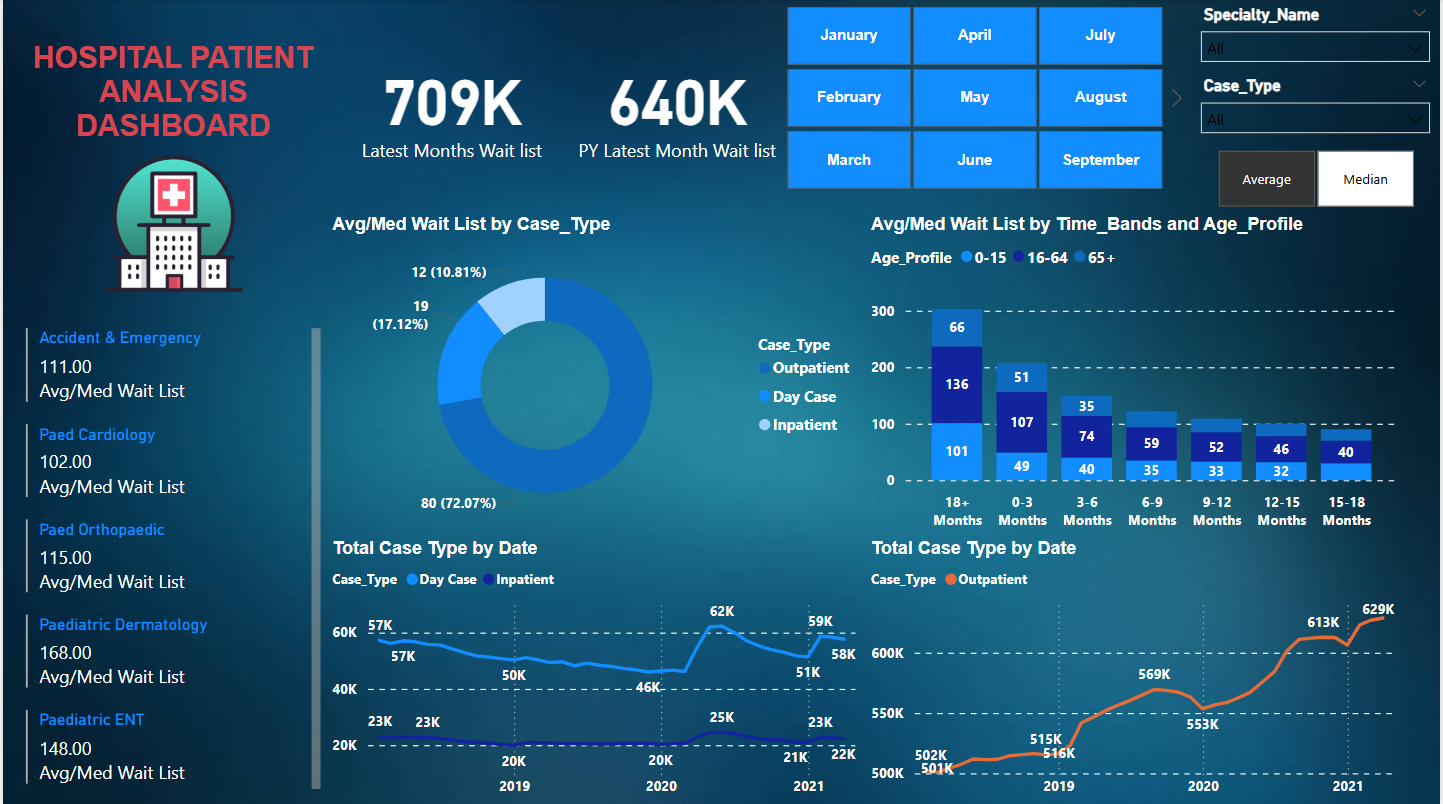

Layout of this report page (visuals, bound fields, positions):
{"tool":"powerbi","page":{"name":"Page 1","canvas":[1280,720],"ordinal":0},"visuals":[{"type":"card","fields":{"Values":["All_Data.Latest Months Wait list"]},"box":[304,32,192,128],"z":0},{"type":"card","fields":{"Values":["All_Data.PY Latest Month Wait list"]},"box":[496,32,208,128],"z":1000},{"type":"slicer","fields":{"Values":["calcuation method.calc Method"]},"box":[1056,128,224,64],"z":2000},{"type":"donutChart","fields":{"Category":["All_Data.Case_Type"],"Y":["All_Data.Avg/Med Wait List"]},"box":[288,192,480,288],"z":3000},{"type":"columnChart","fields":{"Y":["All_Data.Avg/Med Wait List"],"Series":["All_Data.Age_Profile"],"Category":["All_Data.Time_Bands"]},"box":[768,192,480,288],"z":4000},{"type":"multiRowCard","fields":{"Values":["All_Data.Specialty_Name","All_Data.Avg/Med Wait List"]},"box":[16,288,272,432],"z":5000},{"type":"lineChart","title":"Total Case Type by Date","fields":{"Series":["All_Data.Case_Type"],"Category":["All_Data.Archive_Date"],"Y":["Sum(All_Data.Total)"]},"box":[288,480,480,240],"z":6000},{"type":"lineChart","title":"Total Case Type by Date","fields":{"Series":["All_Data.Case_Type"],"Category":["All_Data.Archive_Date"],"Y":["Sum(All_Data.Total)"]},"box":[768,480,480,240],"z":7000},{"type":"slicer","fields":{"Values":["All_Data.Archive_Date.Variation.Date Hierarchy.Month"]},"box":[672,0,384,176],"z":8000},{"type":"slicer","fields":{"Values":["All_Data.Case_Type"]},"box":[1056,64,224,64],"z":9000},{"type":"slicer","fields":{"Values":["All_Data.Specialty_Name"]},"box":[1056,0,224,64],"z":10000},{"type":"textbox","box":[16,32,272,128],"z":11000},{"type":"image","box":[80,128,144,144],"z":12000}]}

Visuals, with their boxes in screenshot pixels (x1, y1, x2, y2), scaled from the page's 1280x720 canvas onto the 1443x804 screenshot:
card - All_Data.Latest Months Wait list: [x1=343, y1=36, x2=559, y2=179]
card - All_Data.PY Latest Month Wait list: [x1=559, y1=36, x2=794, y2=179]
slicer - calcuation method.calc Method: [x1=1190, y1=143, x2=1442, y2=214]
donutChart - All_Data.Case_Type x All_Data.Avg/Med Wait List: [x1=325, y1=214, x2=866, y2=536]
columnChart - All_Data.Avg/Med Wait List x All_Data.Age_Profile: [x1=866, y1=214, x2=1407, y2=536]
multiRowCard - All_Data.Specialty_Name x All_Data.Avg/Med Wait List: [x1=18, y1=322, x2=325, y2=803]
"Total Case Type by Date" lineChart: [x1=325, y1=536, x2=866, y2=803]
"Total Case Type by Date" lineChart: [x1=866, y1=536, x2=1407, y2=803]
slicer - All_Data.Archive_Date.Variation.Date Hierarchy.Month: [x1=758, y1=0, x2=1190, y2=197]
slicer - All_Data.Case_Type: [x1=1190, y1=71, x2=1442, y2=143]
slicer - All_Data.Specialty_Name: [x1=1190, y1=0, x2=1442, y2=71]
textbox: [x1=18, y1=36, x2=325, y2=179]
image: [x1=90, y1=143, x2=253, y2=304]
